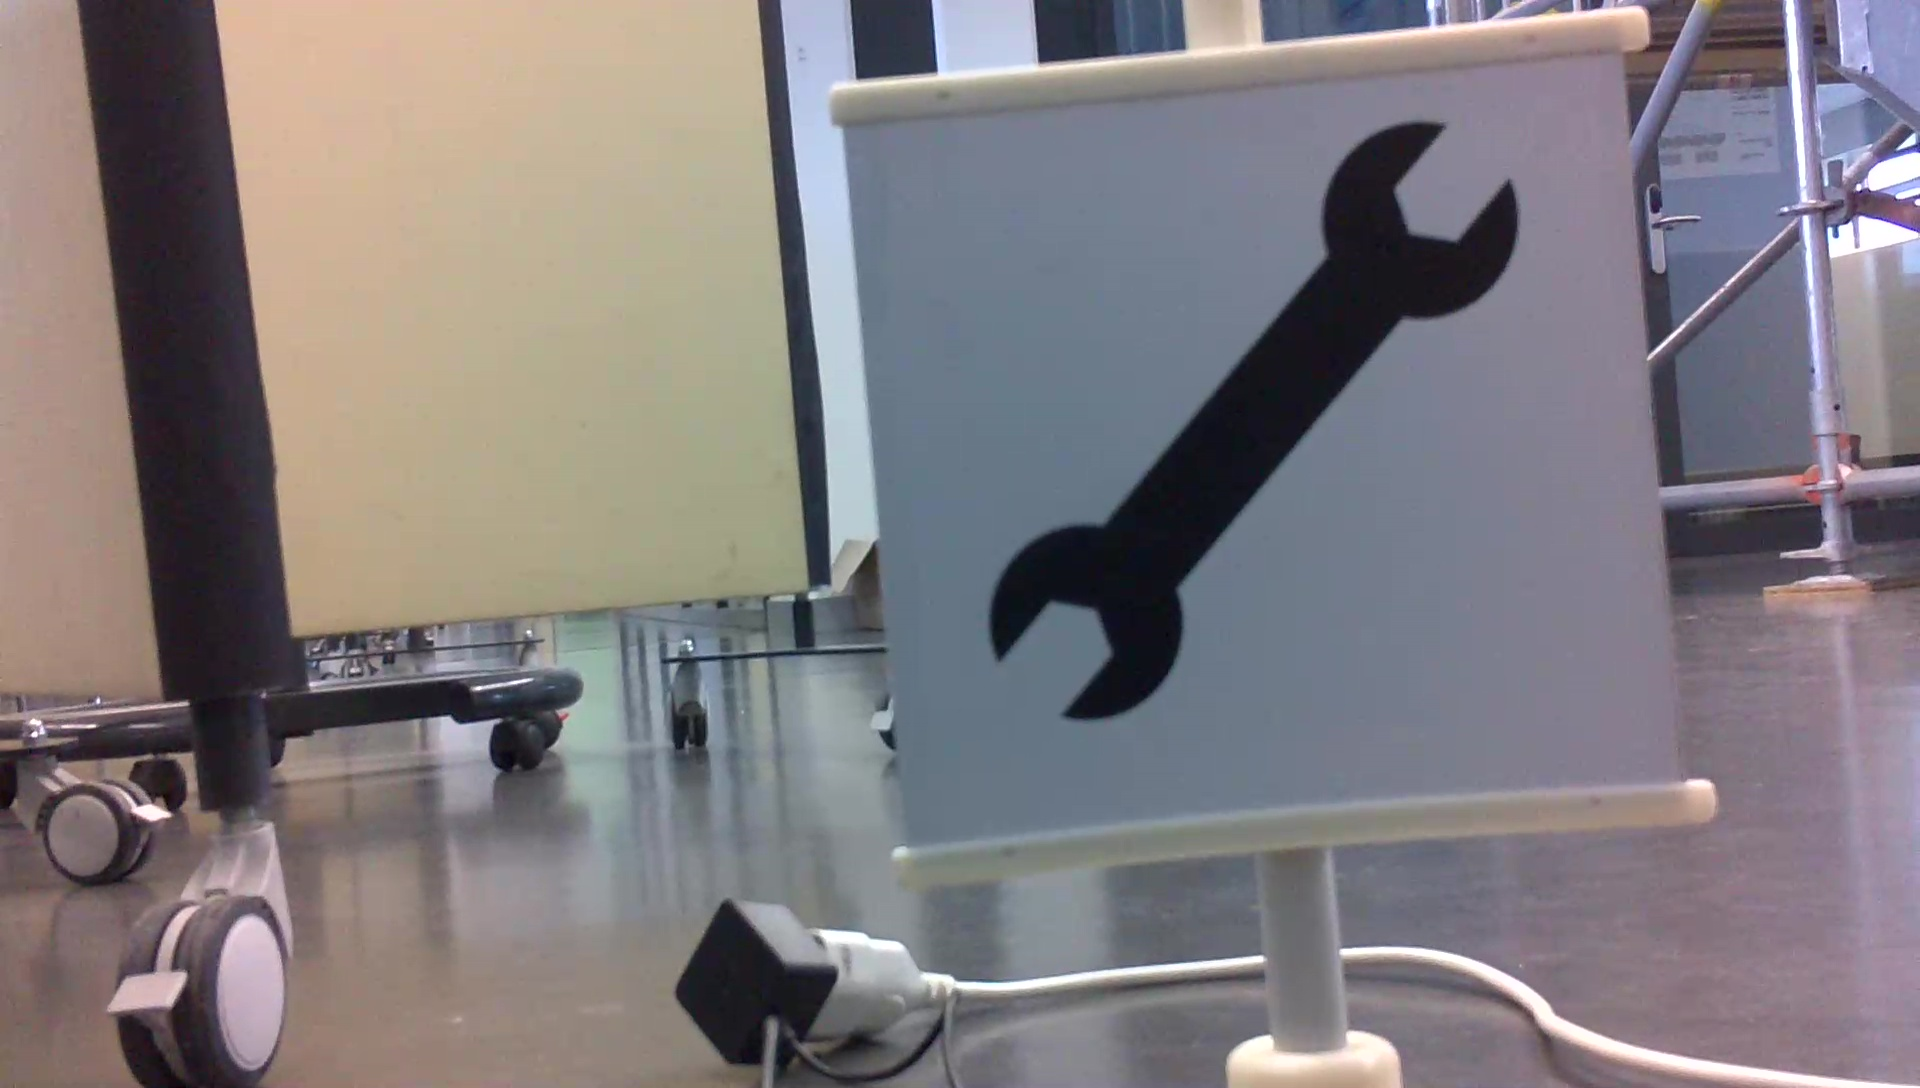wrench: (980, 115, 1526, 727)
